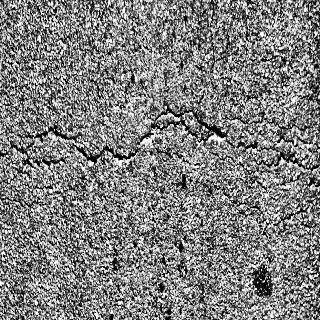crack: (2, 106, 320, 180), (227, 188, 320, 230)
